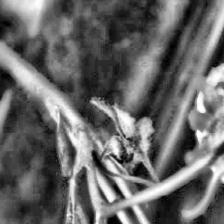Gray Mold: (90, 99, 161, 186)
